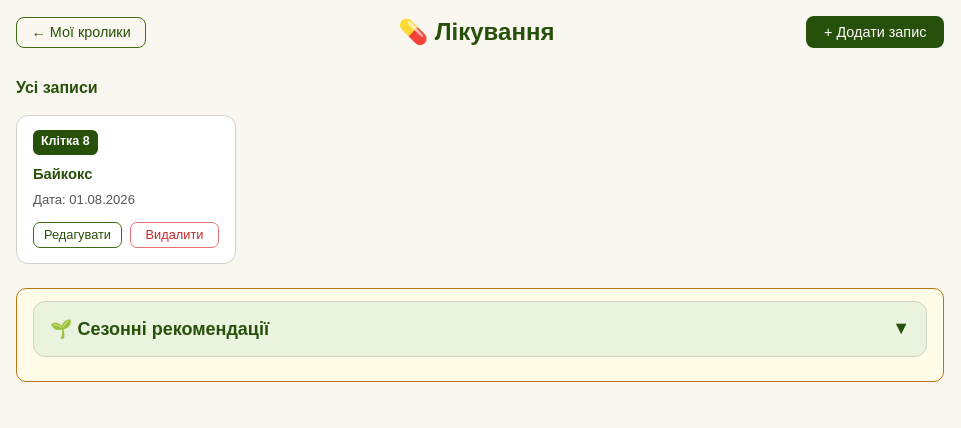
MyTreatments: помилки Supabase › видалення: помилка показується, запис лишається
Step 1. Click the button "Видалити" → (174, 235), box [130,222,219,248]
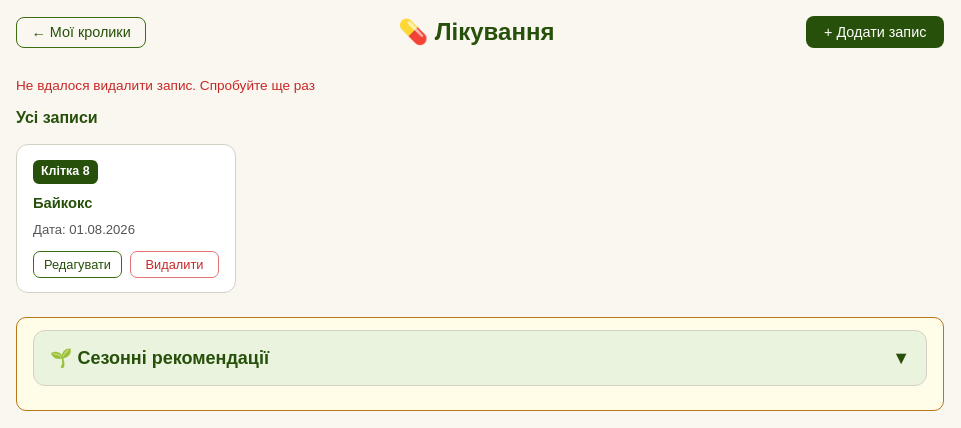
Expected: the text "Байкокс" is shown, [33,196,92,212]
Now the text "Не вдалося видалити запис. Спробуйте ще раз" is shown, box [16,78,315,93]
